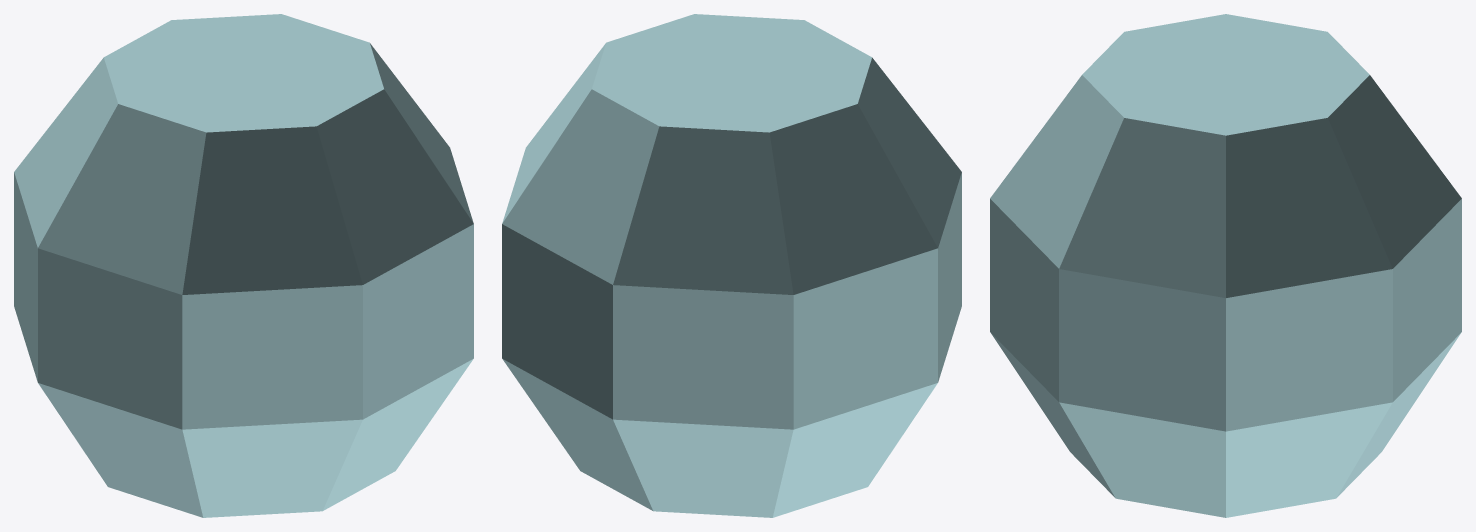
Rendered from stone_small8.obj.
3 views of the same model, side by side, from view 1: azimuth 30°, elevation 25°; view 2: azimuth 150°, elevation 25°; view 3: azimuth 270°, elevation 25° (orthographic).
Visible parts, largest first — view 1: stone_small8; view 2: stone_small8; view 3: stone_small8.
Boxes of the visible parts, x1,y1,x2,y2 form: stone_small8: (14, 14, 473, 517); stone_small8: (502, 14, 961, 517); stone_small8: (990, 14, 1461, 517).
Bounding box in the file's own units: 4.62 × 4.07 × 4.62.
